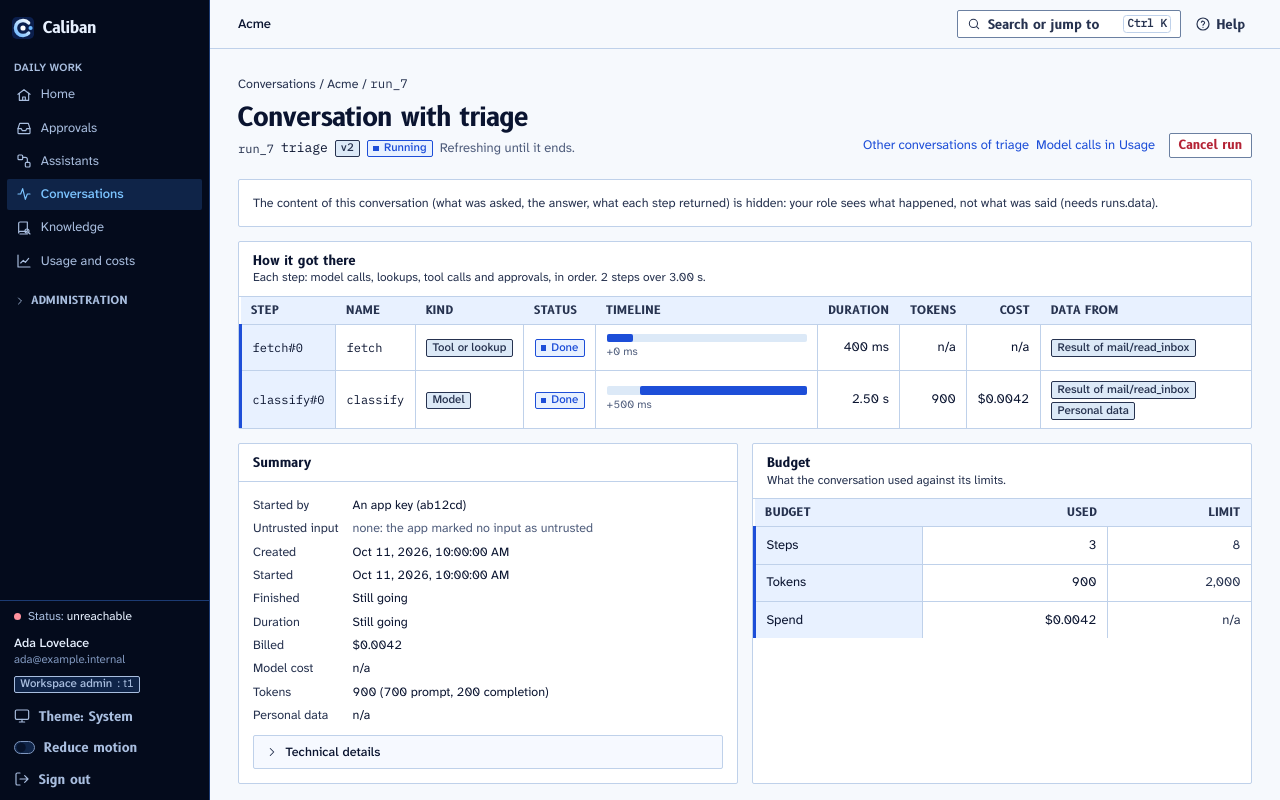
Scenario: RunDetailPage › cancels a run that has not ended, as the signed-in user
Expected: the table named "Steps" is shown, [239,297,1251,428]
Click the button "Cancel run". click: (1211, 145)
box: [1169,133,1252,158]
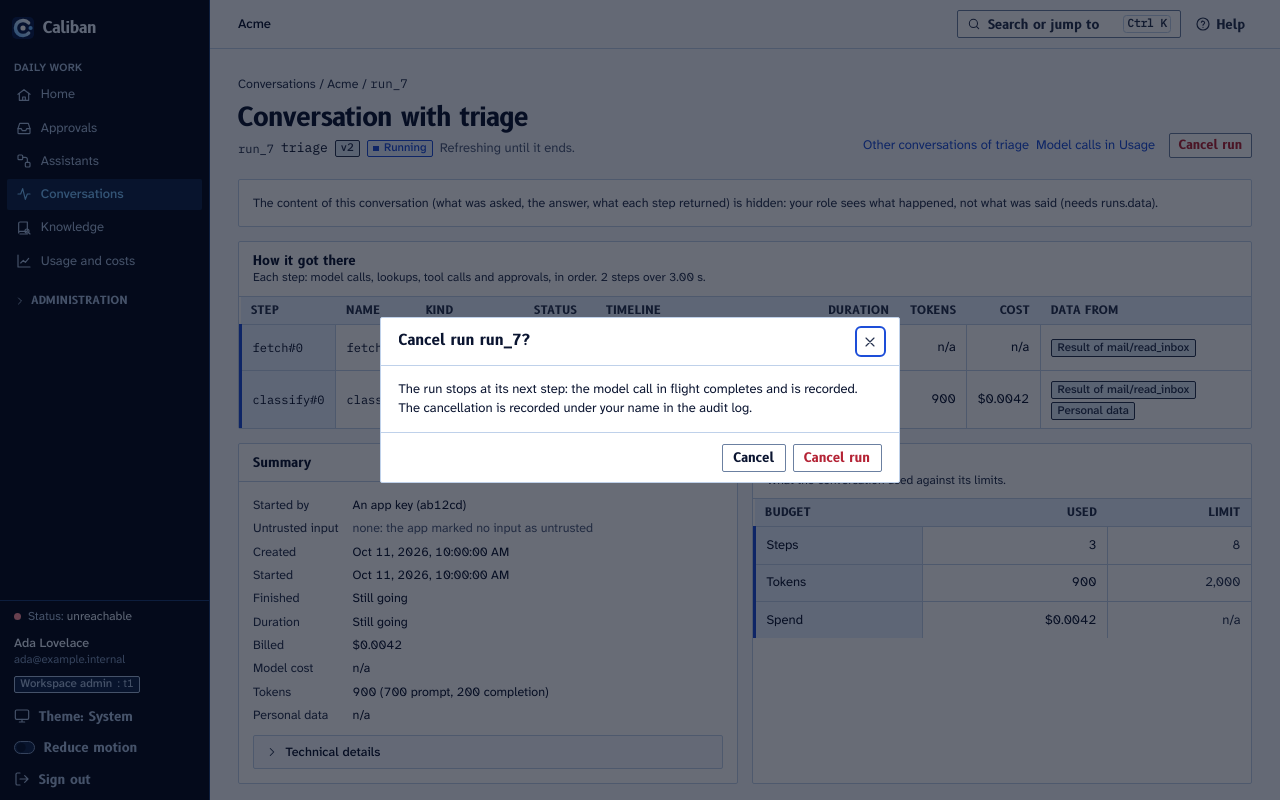
Expected: the dialog "Cancel run run_7?" shows "stops at its next step", [398,380,858,397]
Click the 2nd button "Cancel run". click: (837, 458)
box: [792,444,882,472]
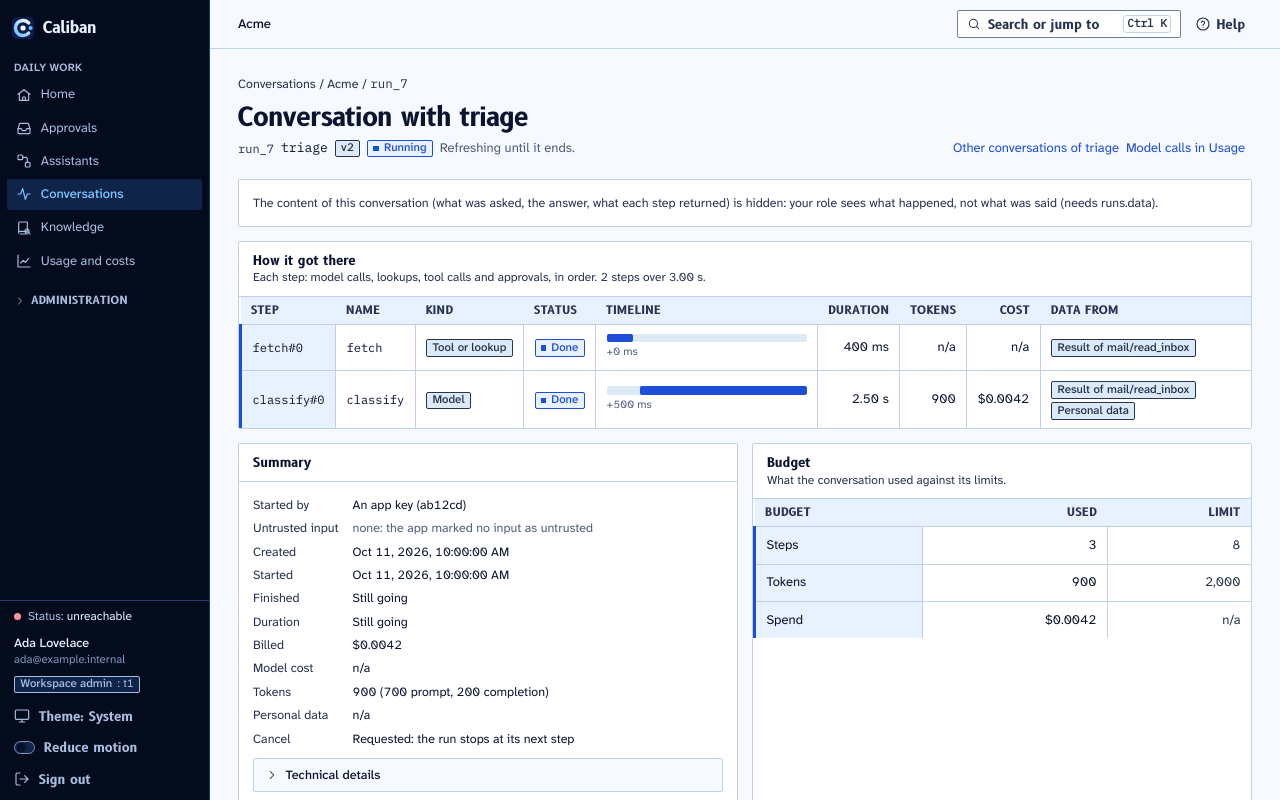
Expected: the text "Requested: the run stops at its next step" is shown, [353,730,574,746]
Expected: the button "Cancel run" is gone
